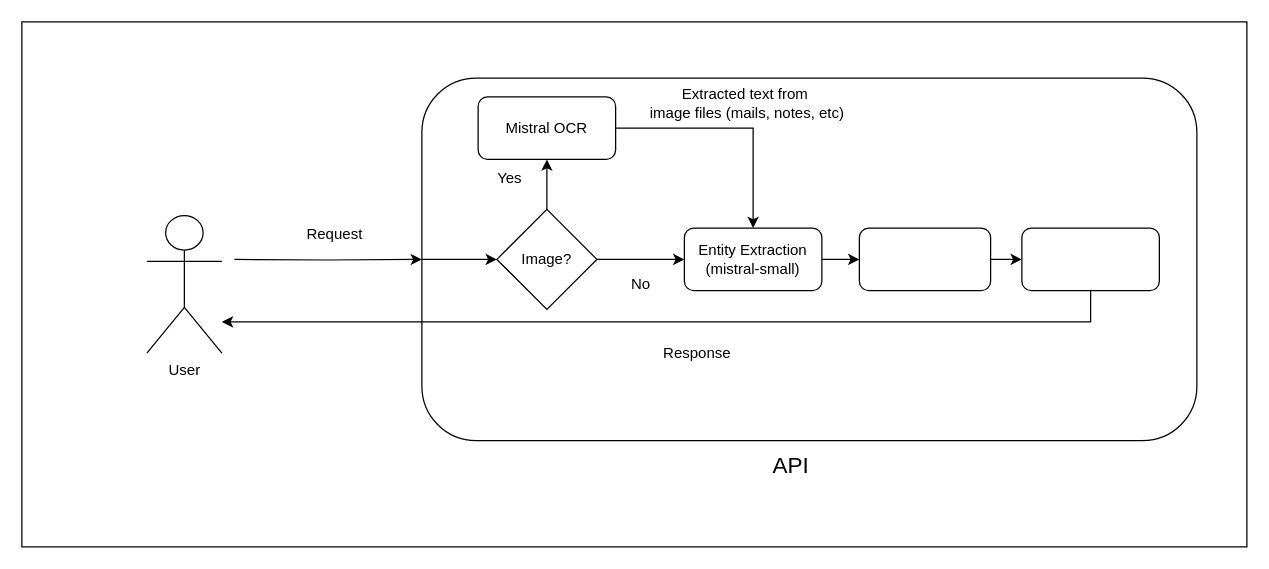
Image size: 1269x569. Some labels were removed from this diagram. Each missing label, with the centre of its shape:
Combine JSONs: the point at 1090,259
Date Normalization (mistral-small): the point at 924,259
